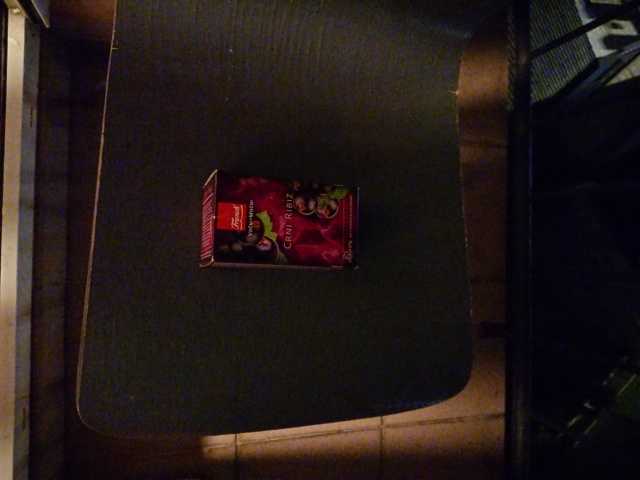Franck Black Currant Tea 60g: (196, 166, 363, 274)
